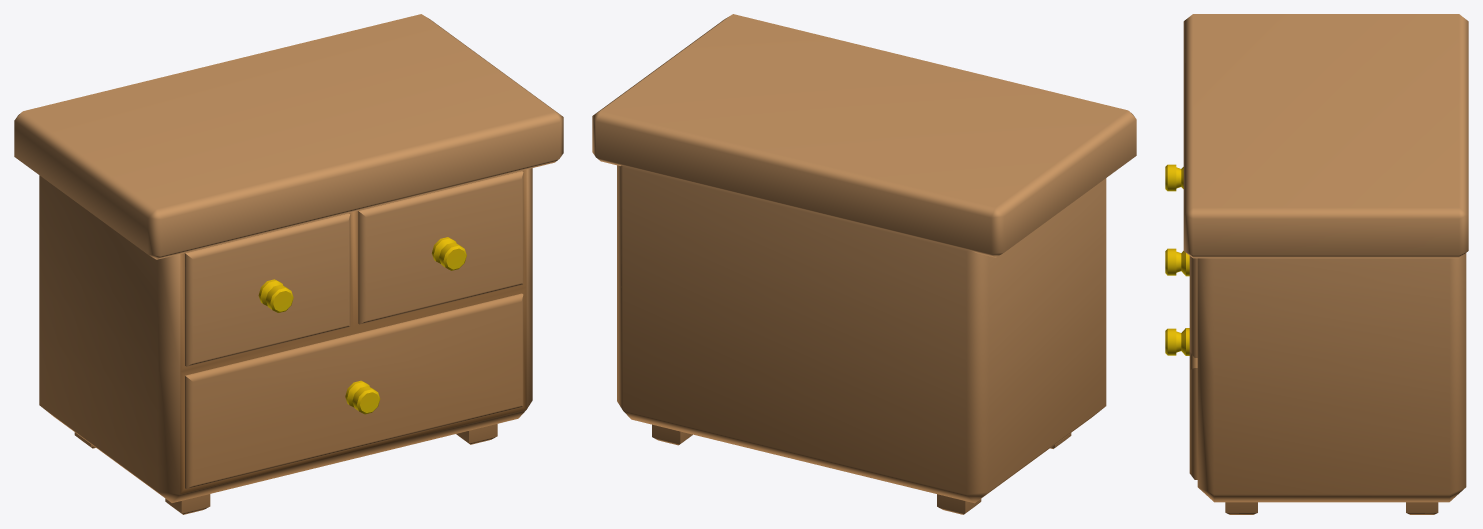
File: Wardrobe_13.fbx
3 views of the same model, side by side, from view 1: azimuth 30°, elevation 25°; view 2: azimuth 150°, elevation 25°; view 3: azimuth 270°, elevation 25° (orthographic).
Parts seen in each view (by area): view 1: Wardrobe_13, Wardrobe_13 Door_3, Wardrobe_13 Door_1, Wardrobe_13 Door_2; view 2: Wardrobe_13; view 3: Wardrobe_13, Wardrobe_13 Door_3, Wardrobe_13 Door_2, Wardrobe_13 Door_1.
Boxes of the visible parts, <box> form: Wardrobe_13: <box>14,14,563,514</box>; Wardrobe_13 Door_3: <box>185,293,523,489</box>; Wardrobe_13 Door_1: <box>185,213,350,366</box>; Wardrobe_13 Door_2: <box>358,171,523,324</box>; Wardrobe_13: <box>592,14,1136,514</box>; Wardrobe_13: <box>1183,14,1468,514</box>; Wardrobe_13 Door_3: <box>1165,328,1197,479</box>; Wardrobe_13 Door_2: <box>1165,248,1197,357</box>; Wardrobe_13 Door_1: <box>1165,164,1183,191</box>.
Size of the model in its own units: 0.8161 by 0.6203 by 0.5174.
